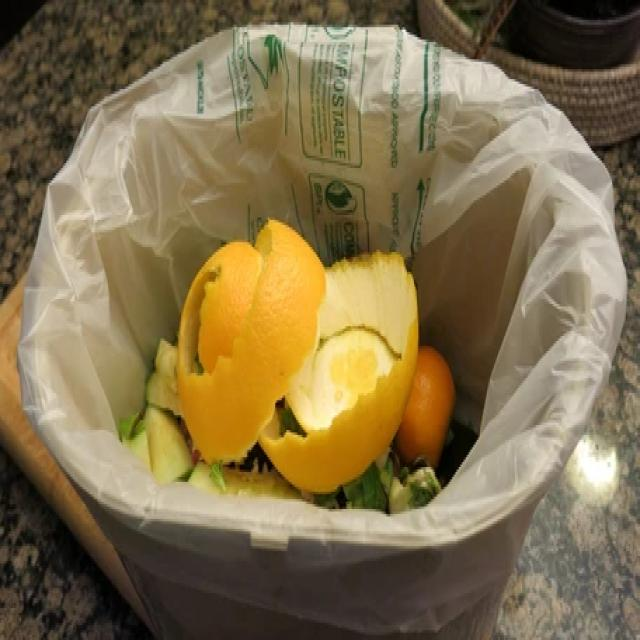organic: (178, 216, 418, 494)
